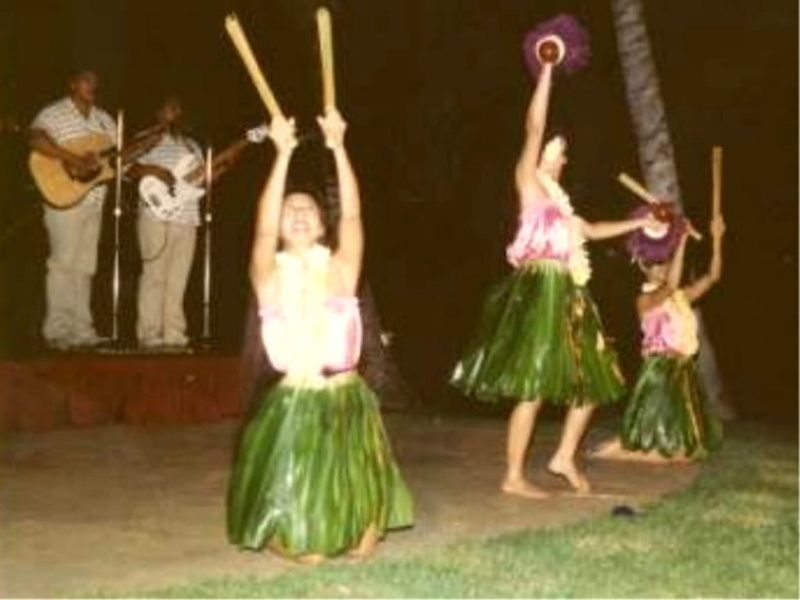person: (242, 150, 398, 564), (502, 99, 622, 520), (629, 196, 728, 470), (37, 51, 122, 354), (132, 79, 218, 357)
